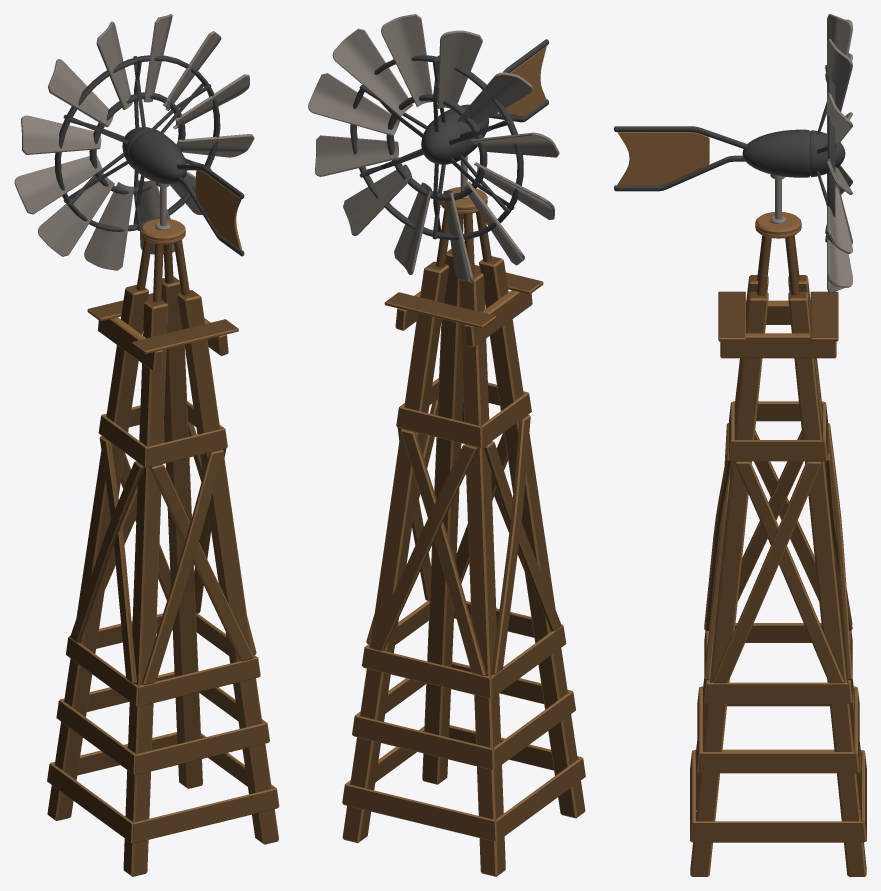
Rendered from WindMillModel.fbx.
The picture shows the model from 3 angles, left to right: view 1: azimuth 30°, elevation 25°; view 2: azimuth 150°, elevation 25°; view 3: azimuth 270°, elevation 25°; orthographic projection. The views are drawn at different scales.
Parts seen in each view (by area): view 1: windmillBase, windmillFans, windmillTop; view 2: windmillBase, windmillFans, windmillTop; view 3: windmillBase, windmillTop, windmillFans.
Boxes of the visible parts, x1,y1,x2,y2 form: windmillBase: (47, 182, 279, 876); windmillFans: (14, 14, 254, 270); windmillTop: (128, 130, 244, 256); windmillBase: (342, 155, 585, 876); windmillFans: (308, 14, 559, 283); windmillTop: (432, 39, 548, 157); windmillBase: (690, 174, 866, 876); windmillTop: (614, 126, 810, 191); windmillFans: (810, 14, 852, 293).
Bounding box in the file's own units: 14.22 × 46.11 × 13.01.
